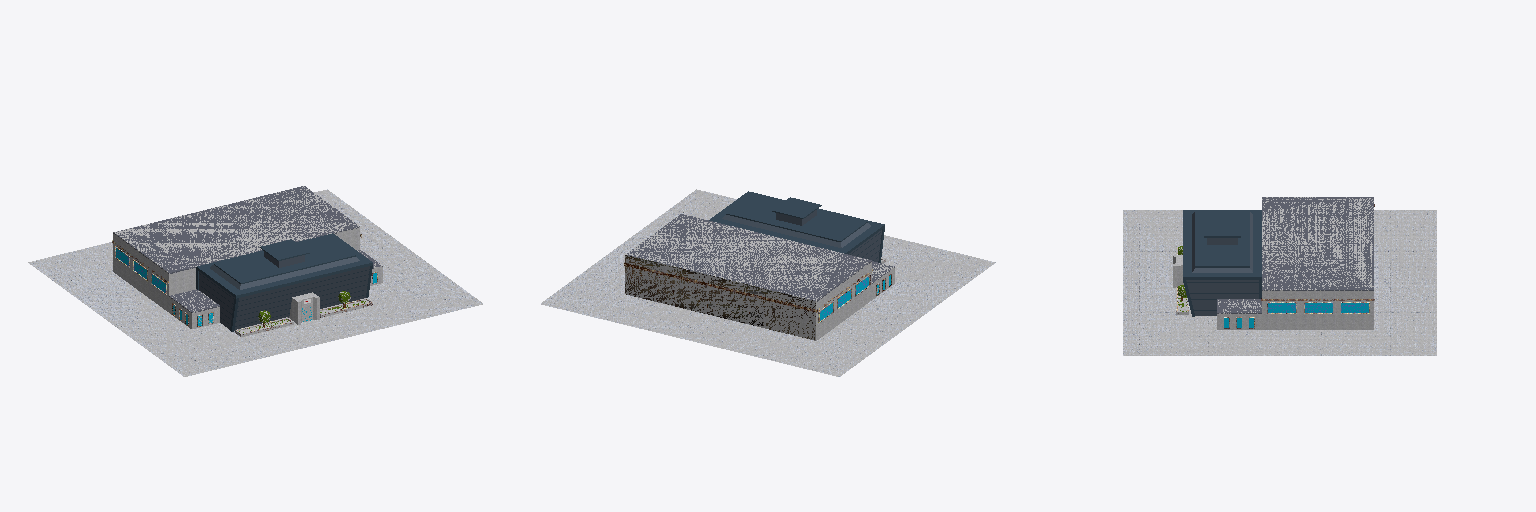
The picture shows the model from 3 angles: view 1: azimuth 30°, elevation 25°; view 2: azimuth 150°, elevation 25°; view 3: azimuth 270°, elevation 25°; orthographic projection.
Visible parts, largest first — view 1: Mesh1 Model; view 2: Mesh1 Model; view 3: Mesh1 Model.
Part boxes in pixels (x1,y1,x2,y2): Mesh1 Model: (28,186,482,376); Mesh1 Model: (541,189,995,376); Mesh1 Model: (1123,197,1436,355).
Size of the model in its own units: 55.15 by 9.6 by 50.
20 materials, 9 textured.